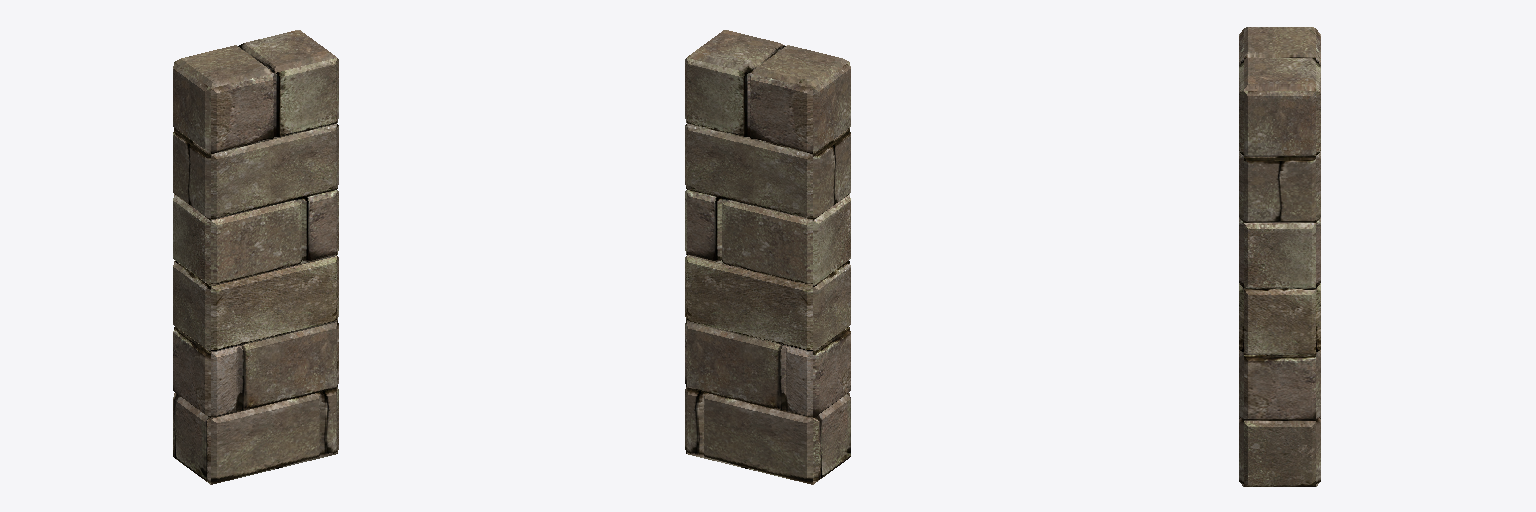
3 views of the same model, side by side, from view 1: azimuth 30°, elevation 25°; view 2: azimuth 150°, elevation 25°; view 3: azimuth 270°, elevation 25° (orthographic).
Visible parts, largest first — view 1: Box003; view 2: Box003; view 3: Box003.
Part boxes in pixels (bbox=[...]): Box003: bbox=[173, 30, 338, 484]; Box003: bbox=[685, 30, 850, 484]; Box003: bbox=[1239, 27, 1320, 486].
Size of the model in its own units: 1.06 by 3.03 by 0.56.
Materials: 1 (1 with a texture image).